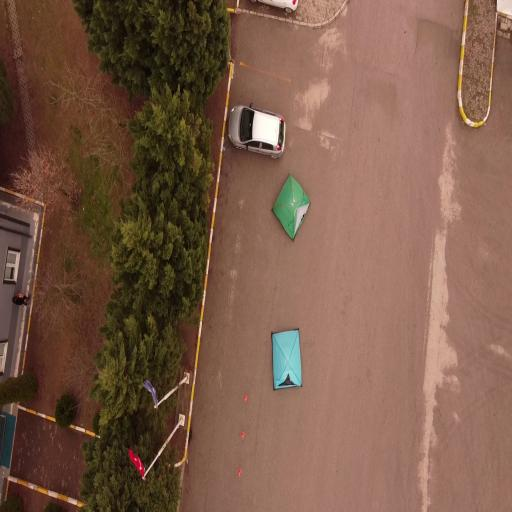tent: (270, 171, 312, 248), (269, 322, 304, 396)
